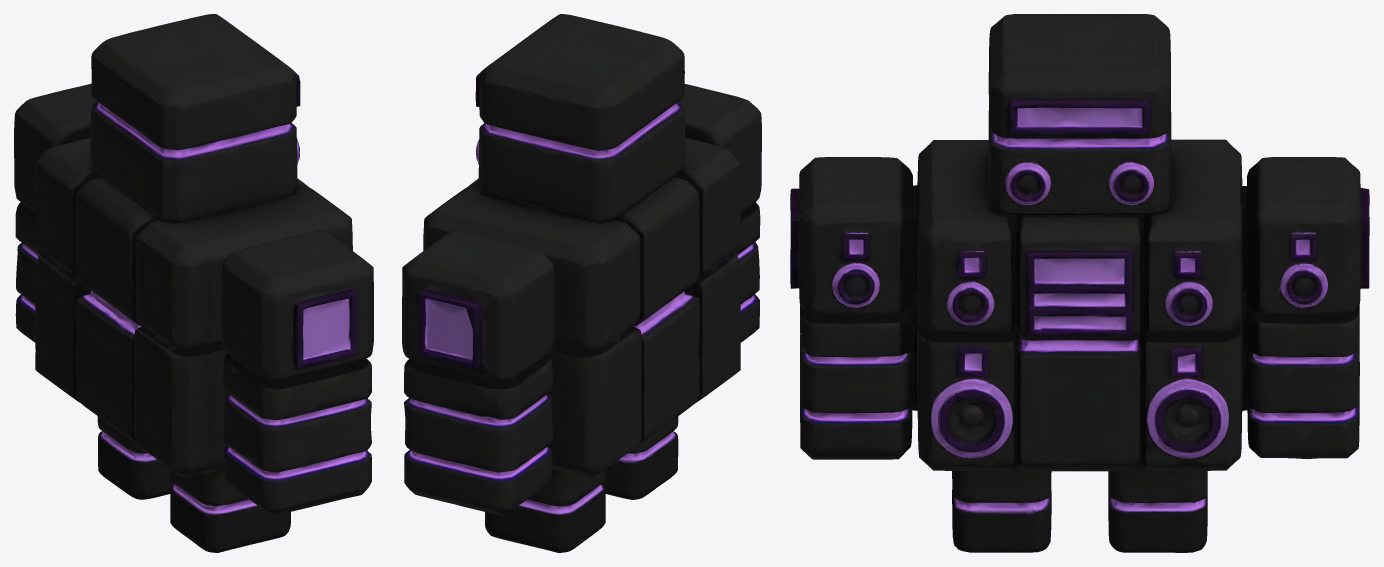
Rendered from sponge.glb.
3 renders of one model, left to right at view 1: azimuth 30°, elevation 25°; view 2: azimuth 150°, elevation 25°; view 3: azimuth 270°, elevation 25°, orthographic. The views are drawn at different scales.
Visible parts, largest first — view 1: tripo_node_10b2db3d-bd25-4f76-91c9-3577cc6d05d7; view 2: tripo_node_10b2db3d-bd25-4f76-91c9-3577cc6d05d7; view 3: tripo_node_10b2db3d-bd25-4f76-91c9-3577cc6d05d7.
Part boxes in pixels (left/top/right/bottom): tripo_node_10b2db3d-bd25-4f76-91c9-3577cc6d05d7: left=14, top=14, right=373, bottom=552; tripo_node_10b2db3d-bd25-4f76-91c9-3577cc6d05d7: left=402, top=14, right=761, bottom=552; tripo_node_10b2db3d-bd25-4f76-91c9-3577cc6d05d7: left=790, top=14, right=1369, bottom=552.
Bounding box in the file's own units: 0.0652 × 0.15 × 0.1612.
1 material, 1 textured.
